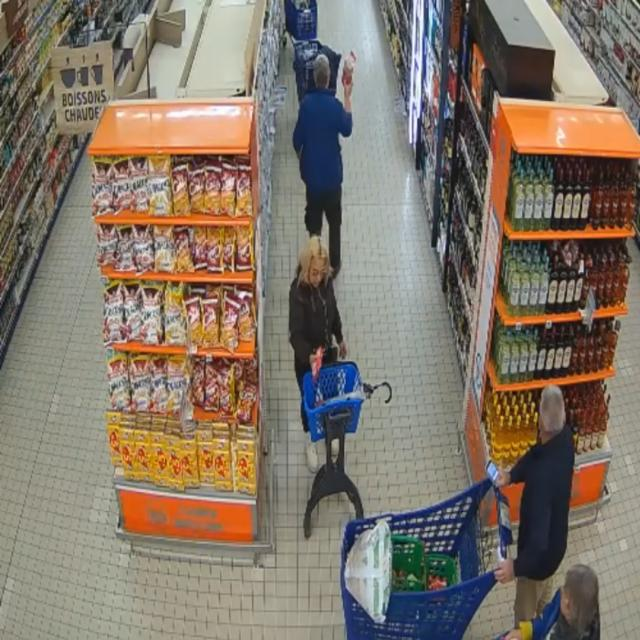article: (341, 49, 357, 86), (311, 346, 322, 383)
hands: (494, 559, 514, 583), (496, 471, 511, 488), (338, 340, 348, 360), (344, 79, 353, 98), (504, 630, 523, 639), (310, 352, 317, 368)
person: (495, 386, 574, 626), (293, 55, 352, 277), (290, 236, 347, 435), (505, 565, 600, 639)
